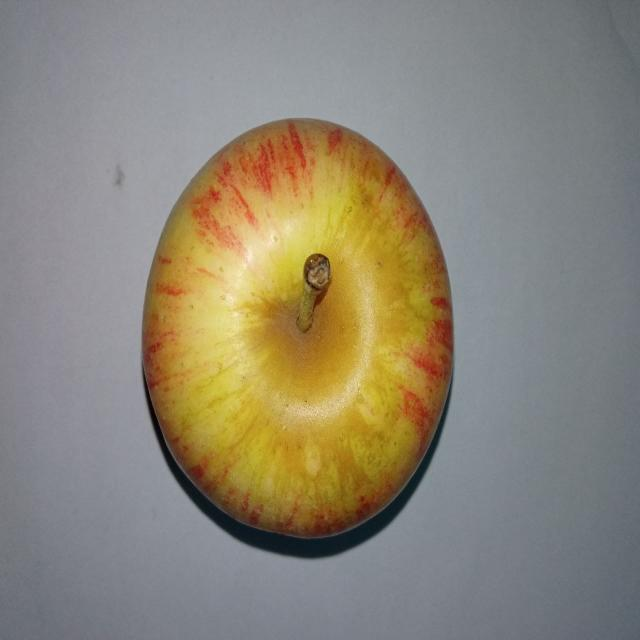fresh_apple: (141, 118, 451, 536)
